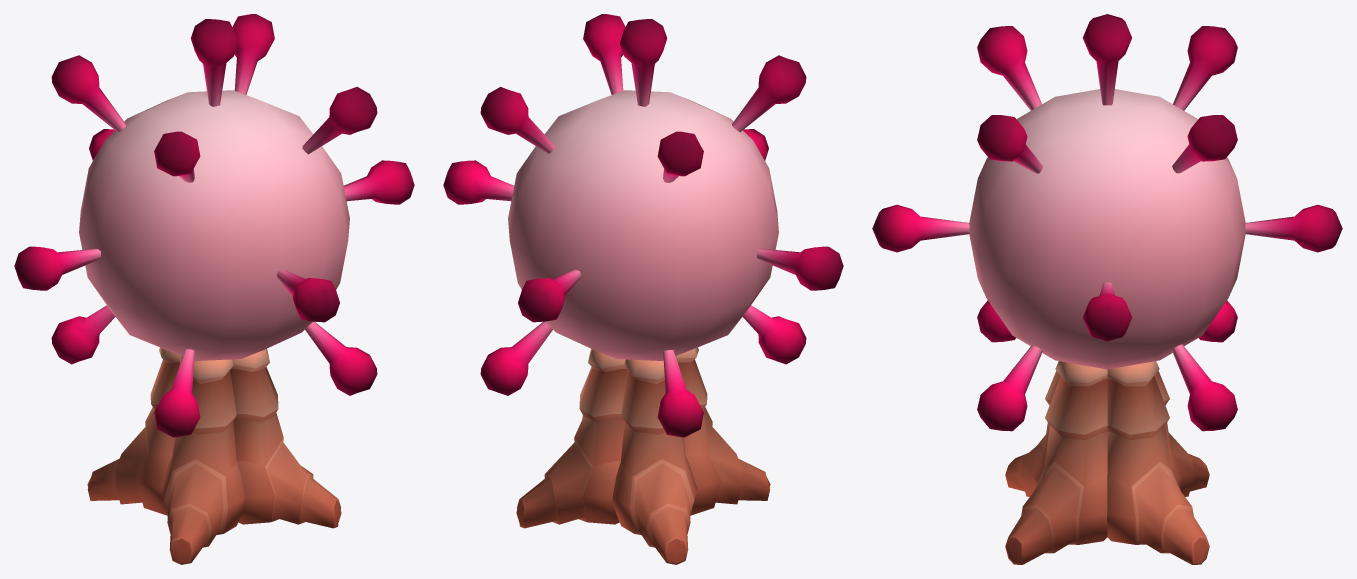
File: wp_noPot_23.fbx
3 renders of one model, left to right at view 1: azimuth 30°, elevation 25°; view 2: azimuth 150°, elevation 25°; view 3: azimuth 270°, elevation 25°, orthographic. The views are drawn at different scales.
Visible parts, largest first — view 1: w_pl23.003; view 2: w_pl23.003; view 3: w_pl23.003.
Boxes of the visible parts, x1,y1,x2,y2 form: w_pl23.003: (14,14,414,564); w_pl23.003: (443,14,843,564); w_pl23.003: (872,14,1342,564).
Size of the model in its own units: 137 by 164 by 137.
